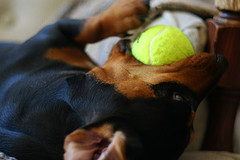tennis ball: (129, 24, 197, 66)
